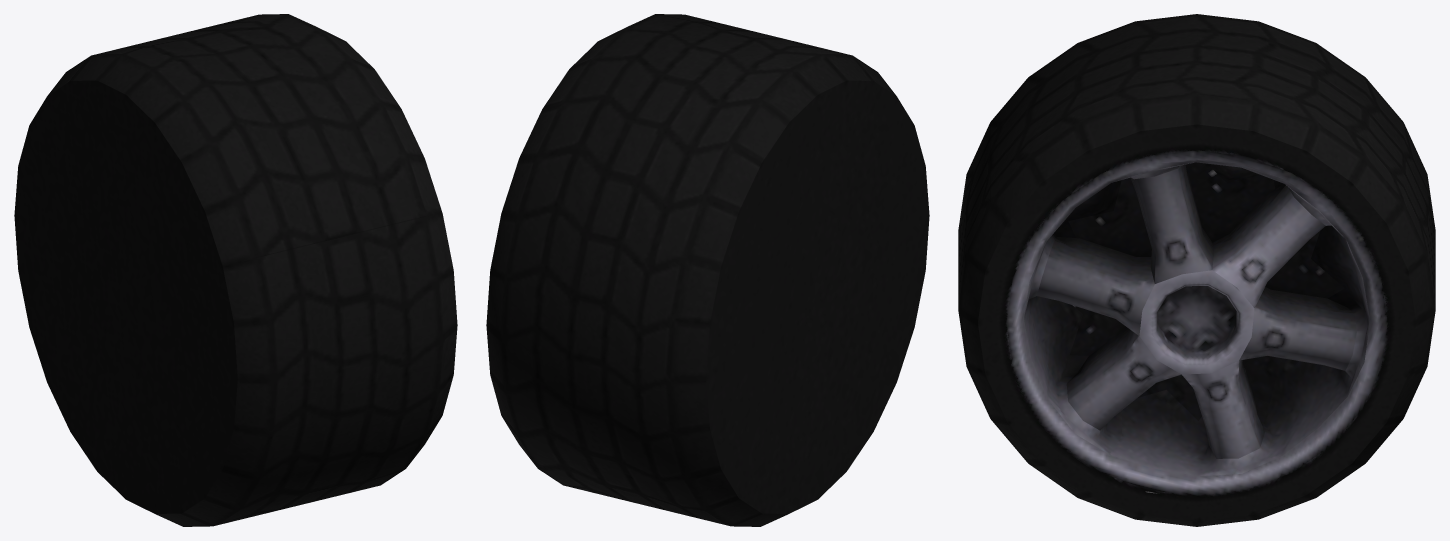
Rendered from Wheel.gltf.
3 renders of one model, left to right at view 1: azimuth 30°, elevation 25°; view 2: azimuth 150°, elevation 25°; view 3: azimuth 270°, elevation 25°, orthographic.
Visible parts, largest first — view 1: Wheel; view 2: Wheel; view 3: Wheel.
Part boxes in pixels (box(x1,y1,x2,y2)): Wheel: box(14, 14, 457, 526); Wheel: box(486, 14, 929, 526); Wheel: box(958, 14, 1435, 526).
Bounding box in the file's own units: 0.00405 × 0.00768 × 0.00768.
2 materials, 2 textured.
